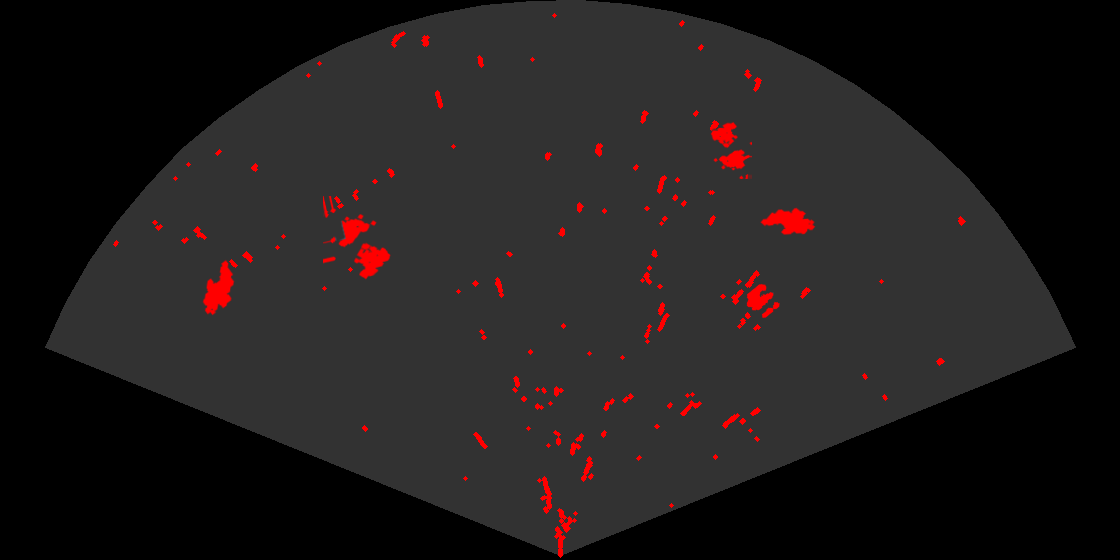AUV: (201, 258, 236, 317), (759, 206, 817, 236)
ball: (745, 282, 781, 320)
cage: (323, 196, 392, 281), (709, 120, 752, 179)
